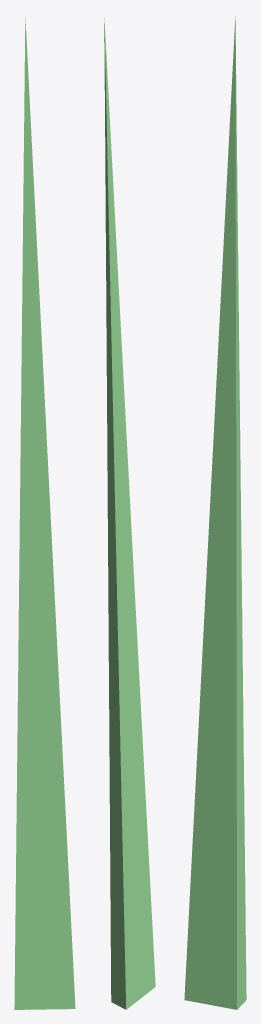
Rendered from linkhou_LR4_R560_link3_respondable_coll_14.dae.
The picture shows the model from 3 angles, left to right: view 1: azimuth 90°, elevation 25°; view 2: azimuth 150°, elevation 25°; view 3: azimuth 270°, elevation 25°; orthographic projection.
Visible parts, largest first — view 1: Node_00000209DB3ABE50; view 2: Node_00000209DB3ABE50; view 3: Node_00000209DB3ABE50.
Boxes of the visible parts, left/top/right/bottom form: Node_00000209DB3ABE50: left=14, top=17, right=75, bottom=1009; Node_00000209DB3ABE50: left=104, top=18, right=155, bottom=1009; Node_00000209DB3ABE50: left=184, top=15, right=246, bottom=1009.
Bounding box in the file's own units: 0.000417 × 0.0144 × 0.000808.
